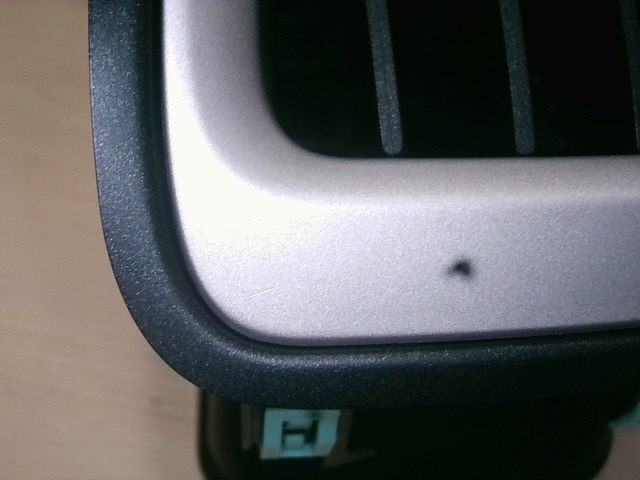NG: (245, 280, 277, 305)
